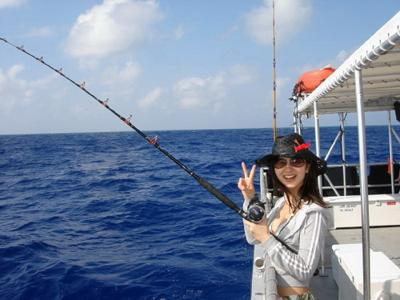person: (238, 134, 327, 300)
